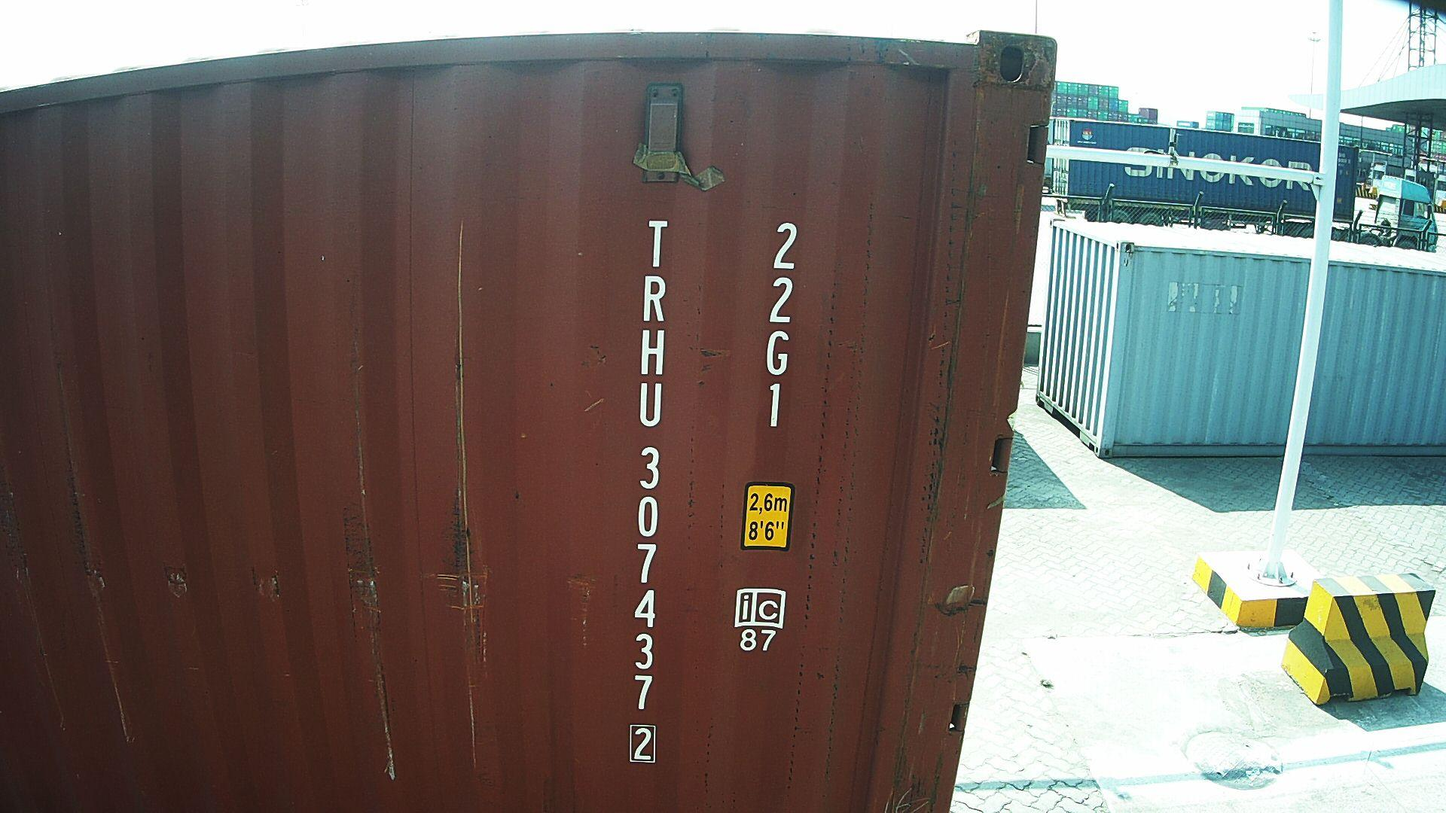container-numbers: (623, 215, 675, 769), (755, 219, 802, 433)
